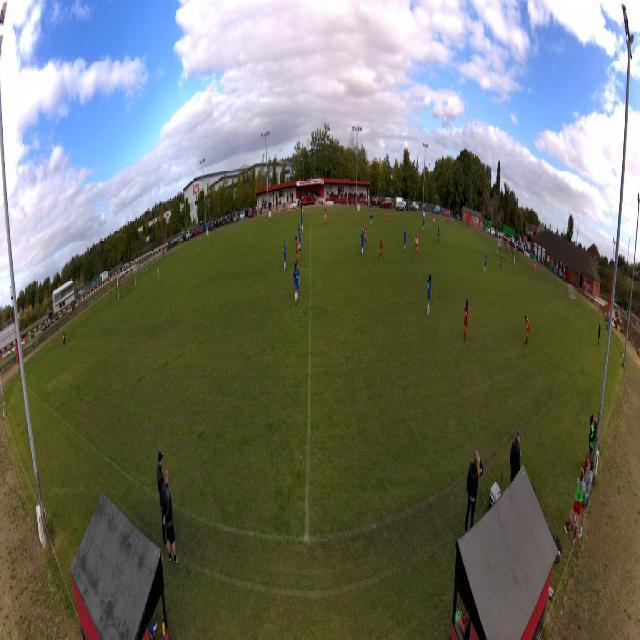ball: (534, 263, 535, 267)
player: (462, 298, 470, 344), (293, 261, 300, 306), (426, 273, 432, 317), (524, 314, 530, 345), (283, 238, 287, 273), (360, 230, 365, 257), (295, 236, 299, 267), (380, 232, 384, 261), (403, 227, 407, 253), (415, 231, 419, 257), (364, 220, 368, 244), (323, 208, 328, 227), (298, 223, 301, 251), (484, 252, 488, 273), (421, 216, 425, 232), (157, 265, 160, 286), (437, 223, 440, 243), (301, 214, 304, 233), (500, 251, 503, 270), (370, 213, 374, 227), (534, 261, 537, 278), (385, 208, 387, 225), (433, 212, 435, 228)
